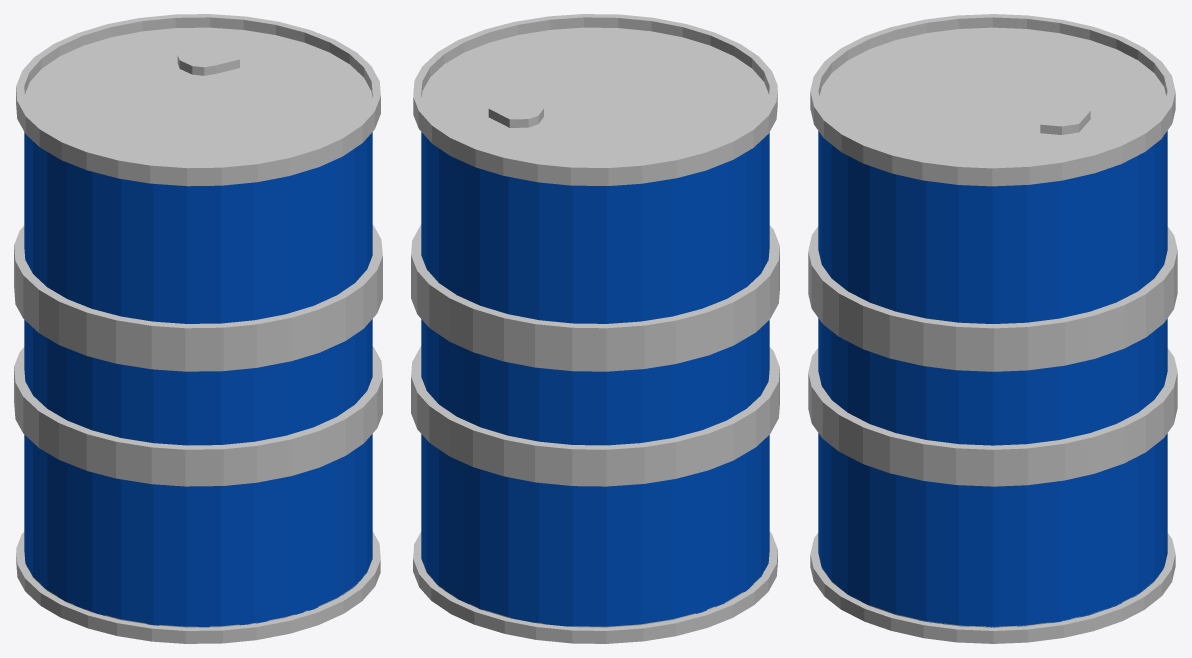
File: ドラム缶 青.fbx
3 renders of one model, left to right at view 1: azimuth 30°, elevation 25°; view 2: azimuth 150°, elevation 25°; view 3: azimuth 270°, elevation 25°, orthographic.
Parts seen in each view (by area): view 1: Cylinder; view 2: Cylinder; view 3: Cylinder.
Boxes of the visible parts, x1,y1,x2,y2 form: Cylinder: (14,14,382,643); Cylinder: (411,14,779,643); Cylinder: (808,14,1177,643).
Size of the model in its own units: 212 by 301 by 212.
